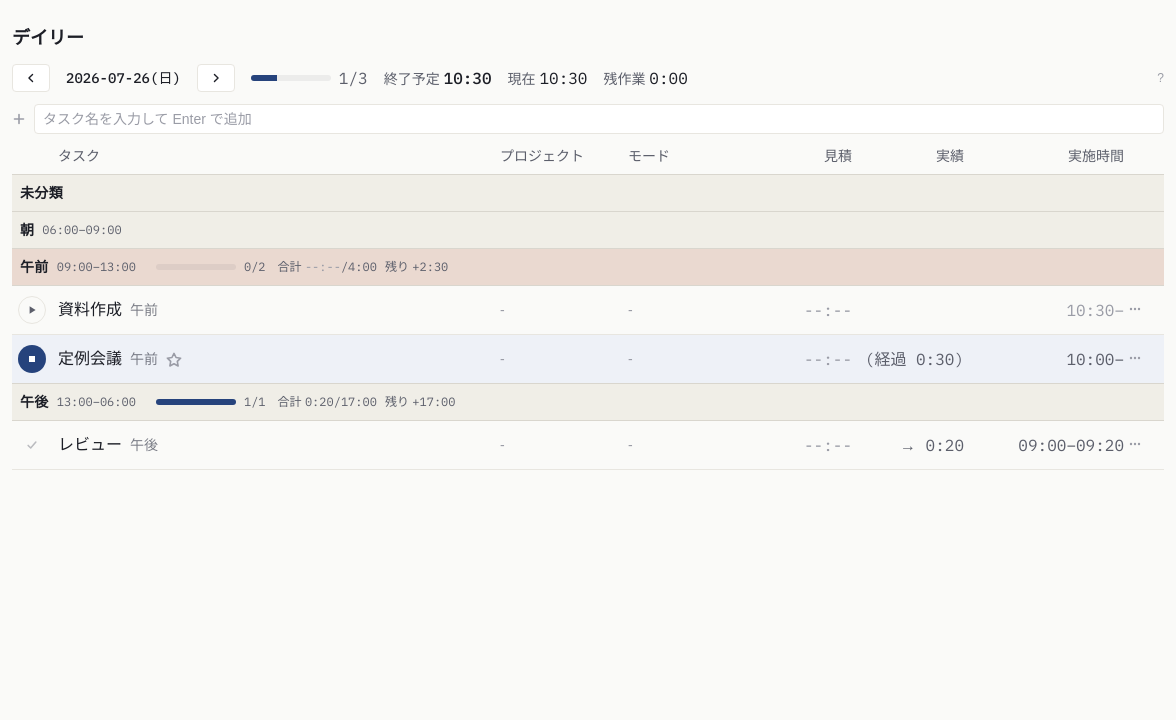
DailyBoard のインライン編集の検証（§8 / 00_共通 §2.3） › 完了タスクでも C でコメントを開ける（状態を問わない。O-16）
Click the row "レビュー". click: click(588, 445)
box: left=12, top=420, right=1164, bottom=470
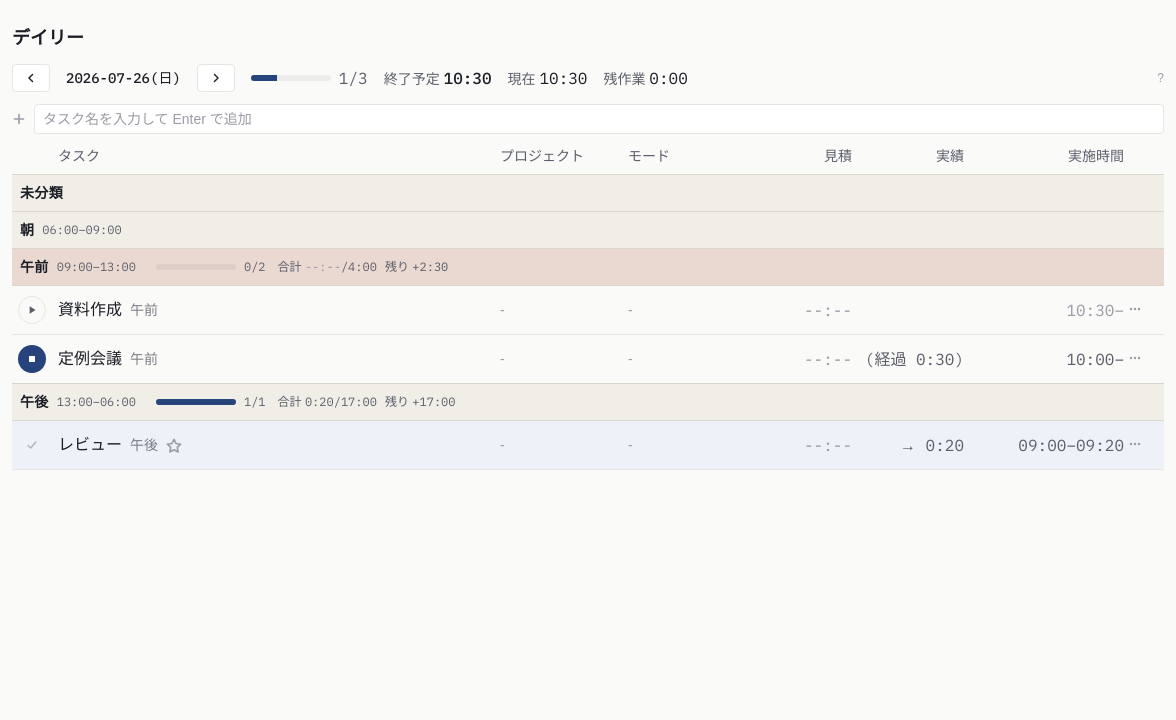
Press c
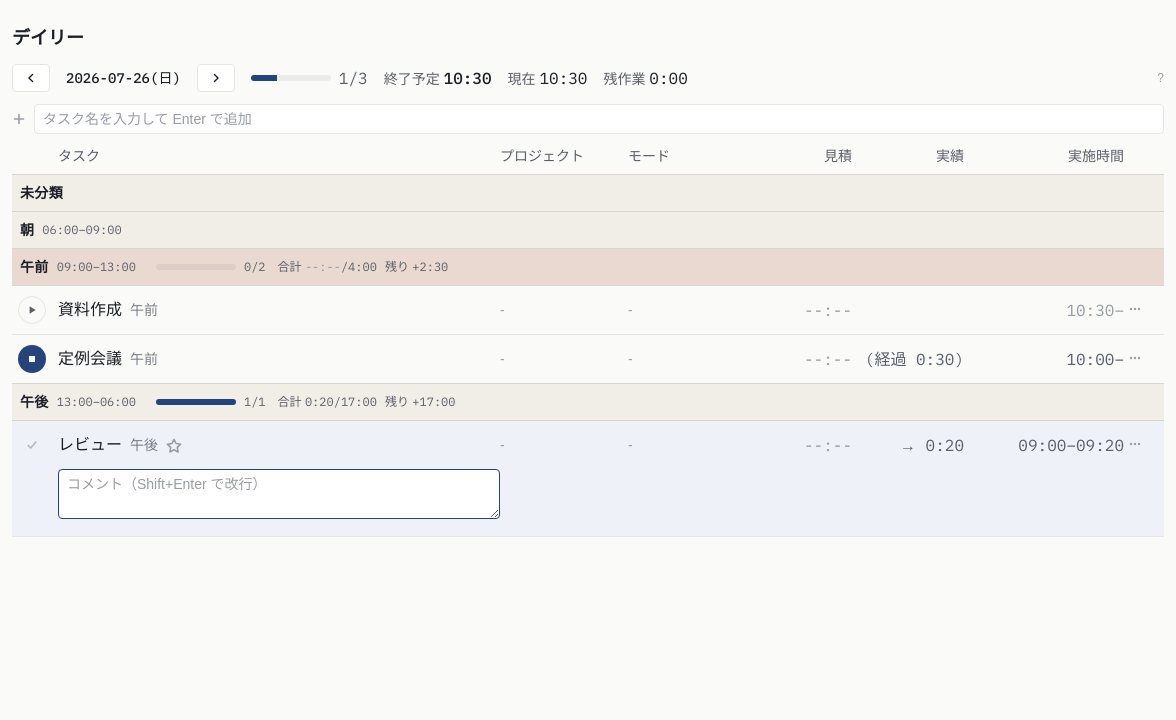
Expected: the text box with placeholder "コメント（Shift+Enter で改行）" is shown, left=58, top=469, right=500, bottom=519
